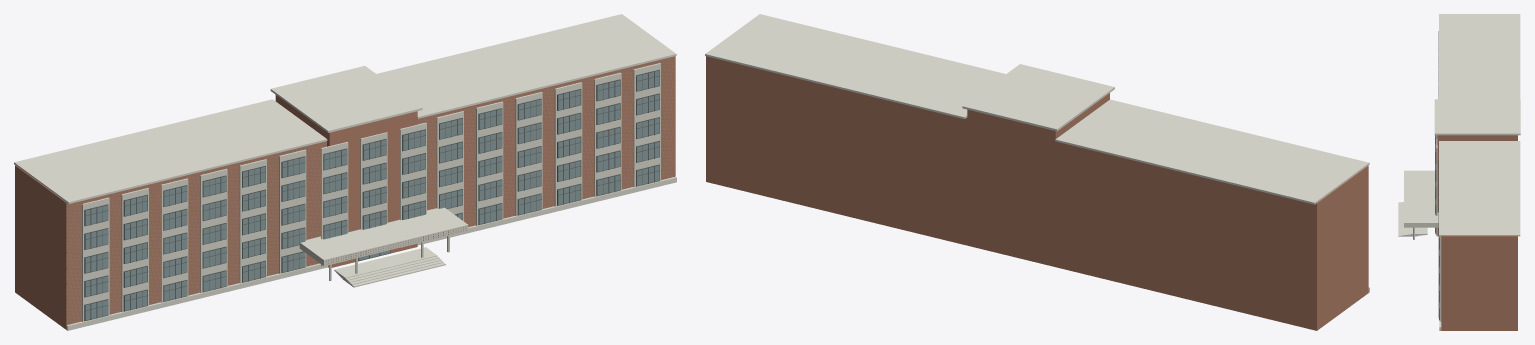
The model's file is buildings-20-far.glb.
The picture shows the model from 3 angles, left to right: view 1: azimuth 30°, elevation 25°; view 2: azimuth 150°, elevation 25°; view 3: azimuth 270°, elevation 25°; orthographic projection. The views are drawn at different scales.
Parts seen in each view (by area): view 1: 恒隆物理楼 · Physics pale stone.001, 恒隆物理楼 · Physics red brick.001, 恒隆物理楼 · Physics glazing.001, 恒隆物理楼 · Physics window frames.001, 恒隆物理楼 · Physics brick joints.001; view 2: 恒隆物理楼 · Physics red brick.001, 恒隆物理楼 · Physics pale stone.001; view 3: 恒隆物理楼 · Physics pale stone.001, 恒隆物理楼 · Physics red brick.001, 恒隆物理楼 · Physics window frames.001, 恒隆物理楼 · Physics glazing.001.
Part boxes in pixels (bbox=[...]): 恒隆物理楼 · Physics pale stone.001: bbox=[14, 14, 676, 330]; 恒隆物理楼 · Physics red brick.001: bbox=[15, 56, 675, 329]; 恒隆物理楼 · Physics glazing.001: bbox=[85, 70, 659, 320]; 恒隆物理楼 · Physics window frames.001: bbox=[84, 69, 660, 320]; 恒隆物理楼 · Physics brick joints.001: bbox=[66, 58, 675, 324]; 恒隆物理楼 · Physics red brick.001: bbox=[706, 56, 1368, 330]; 恒隆物理楼 · Physics pale stone.001: bbox=[705, 14, 1369, 292]; 恒隆物理楼 · Physics pale stone.001: bbox=[1398, 14, 1520, 330]; 恒隆物理楼 · Physics red brick.001: bbox=[1437, 135, 1517, 330]; 恒隆物理楼 · Physics window frames.001: bbox=[1435, 31, 1439, 320]; 恒隆物理楼 · Physics glazing.001: bbox=[1435, 135, 1439, 319].
Size of the model in its own units: 92.8 by 20.3 by 21.65.
